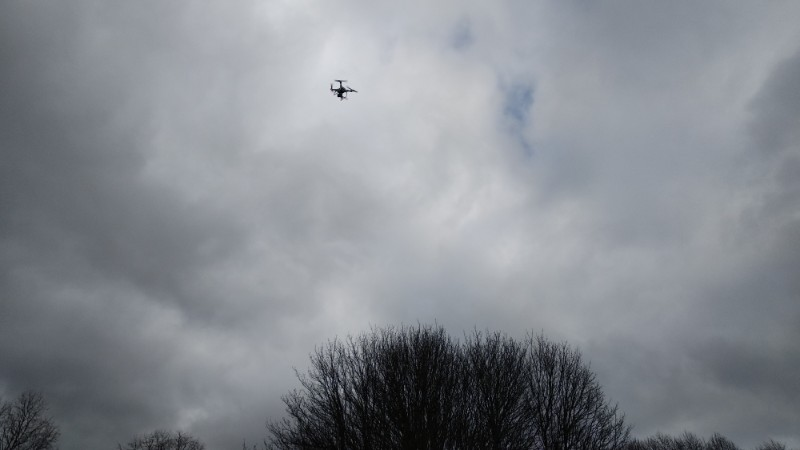drone: (329, 79, 358, 100)
